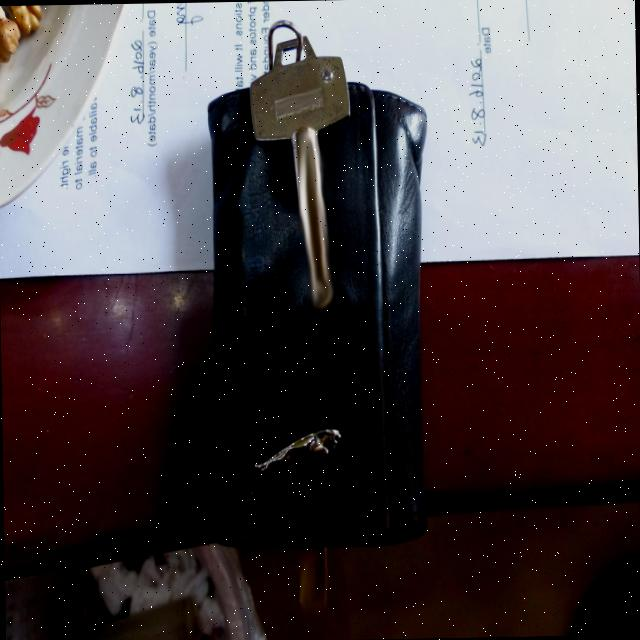Frontdoor keys: (250, 33, 355, 314)
